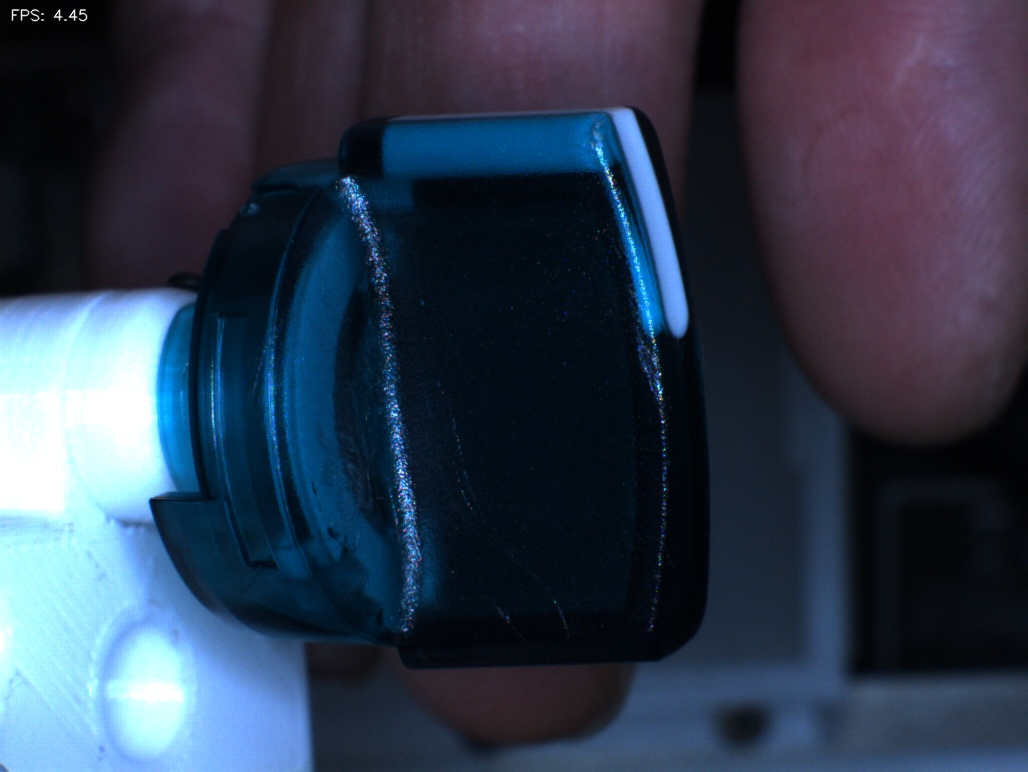Givrage: (410, 352, 571, 652)
